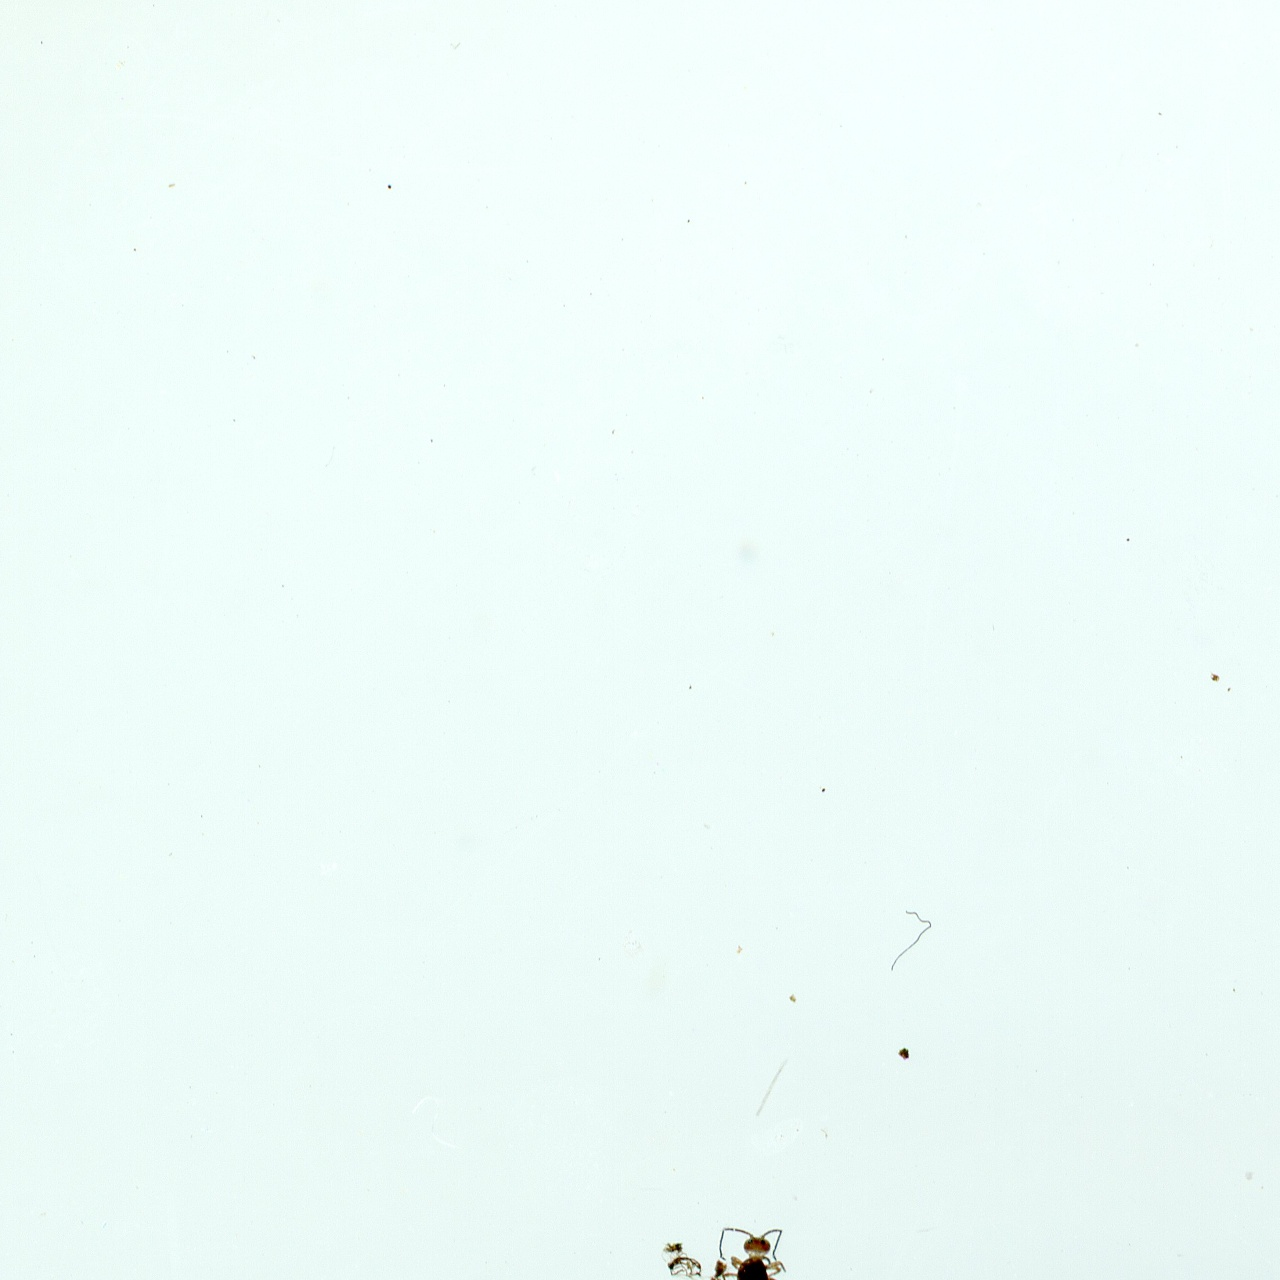arthropod: (702, 1210, 799, 1280)
